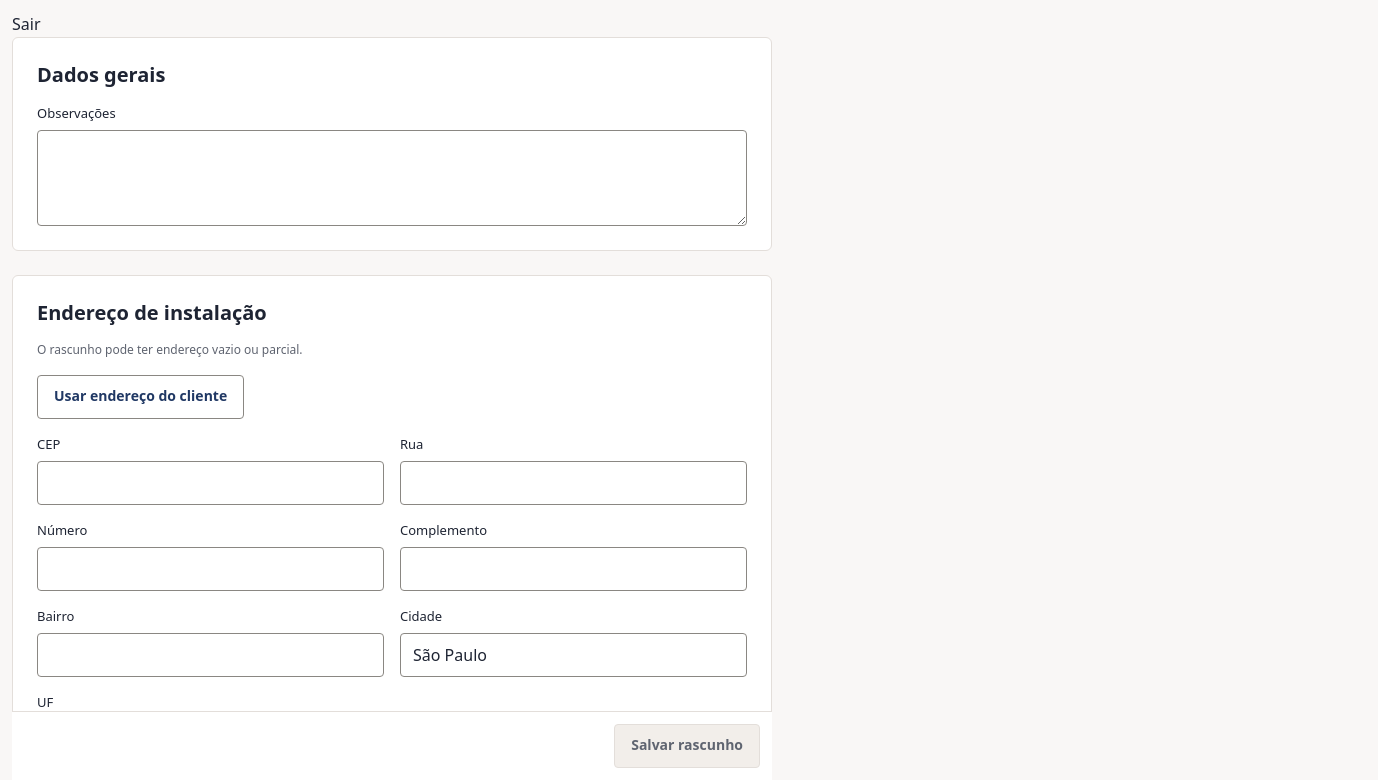
does not save on mount, accepts partial address and resets to server values after saving
Expected: the button "Salvar rascunho" is disabled, left=614, top=724, right=760, bottom=768
In the text box labelled "Observações": {"x": 392, "y": 178} left=37, top=130, right=747, bottom=226, type "Draft"
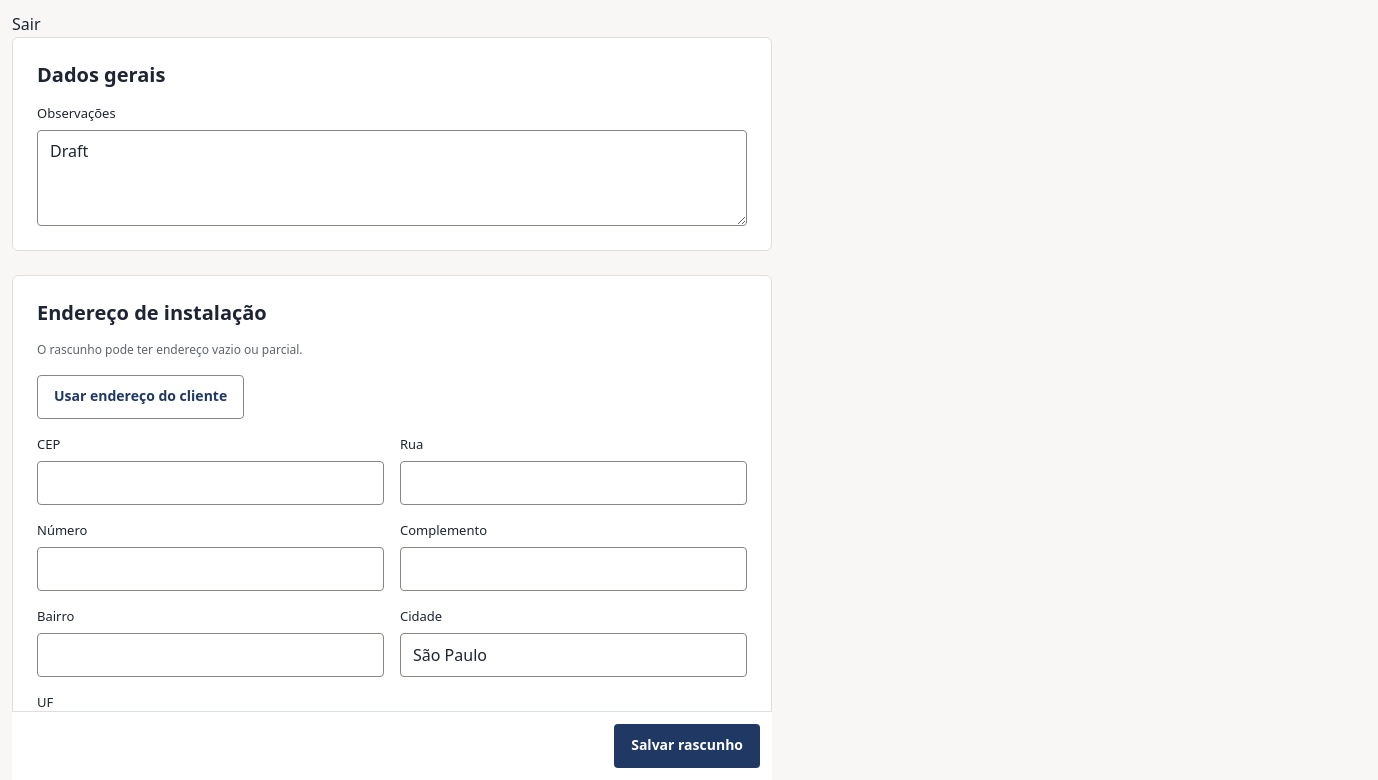
Clear the field labelled "Cidade": {"x": 574, "y": 655} left=400, top=633, right=747, bottom=677
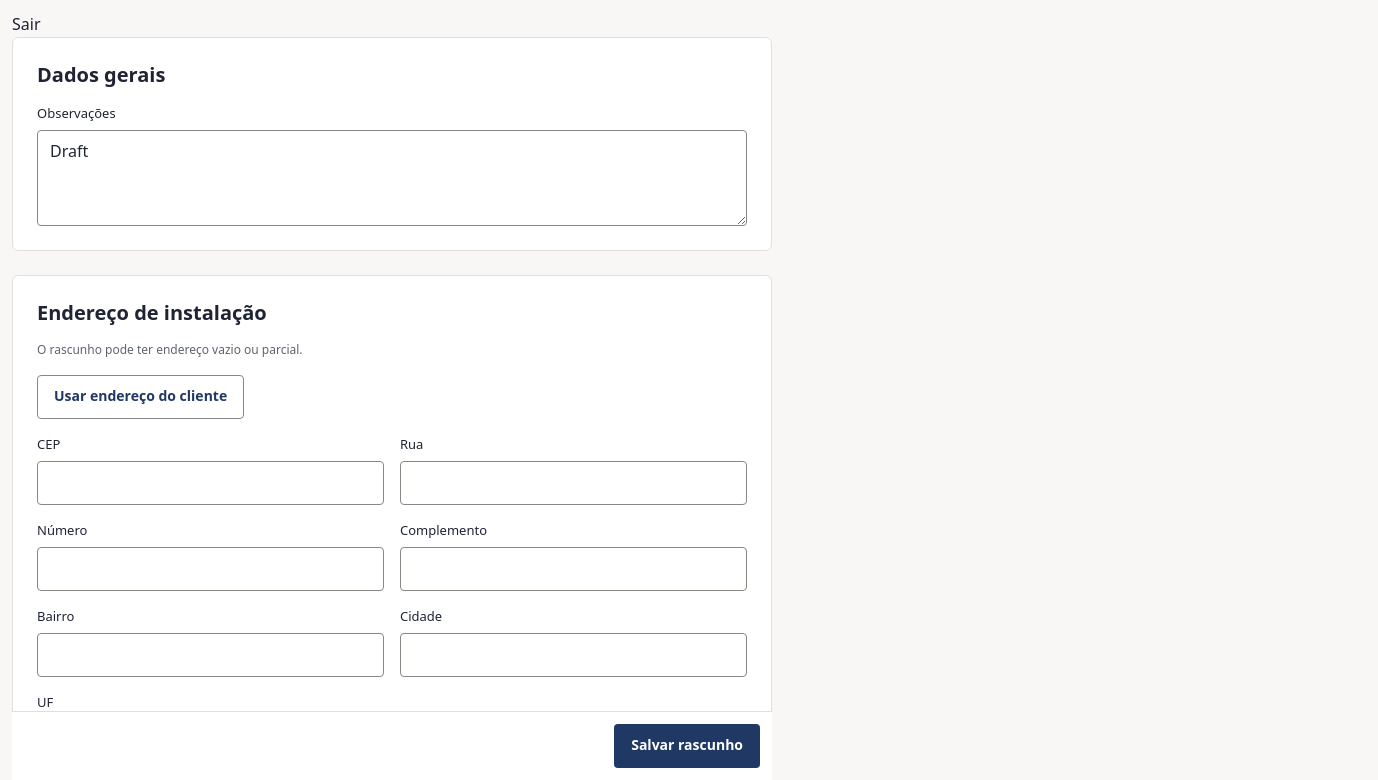
In the field labelled "Rua": {"x": 574, "y": 483} left=400, top=461, right=747, bottom=505, type "Rua A"
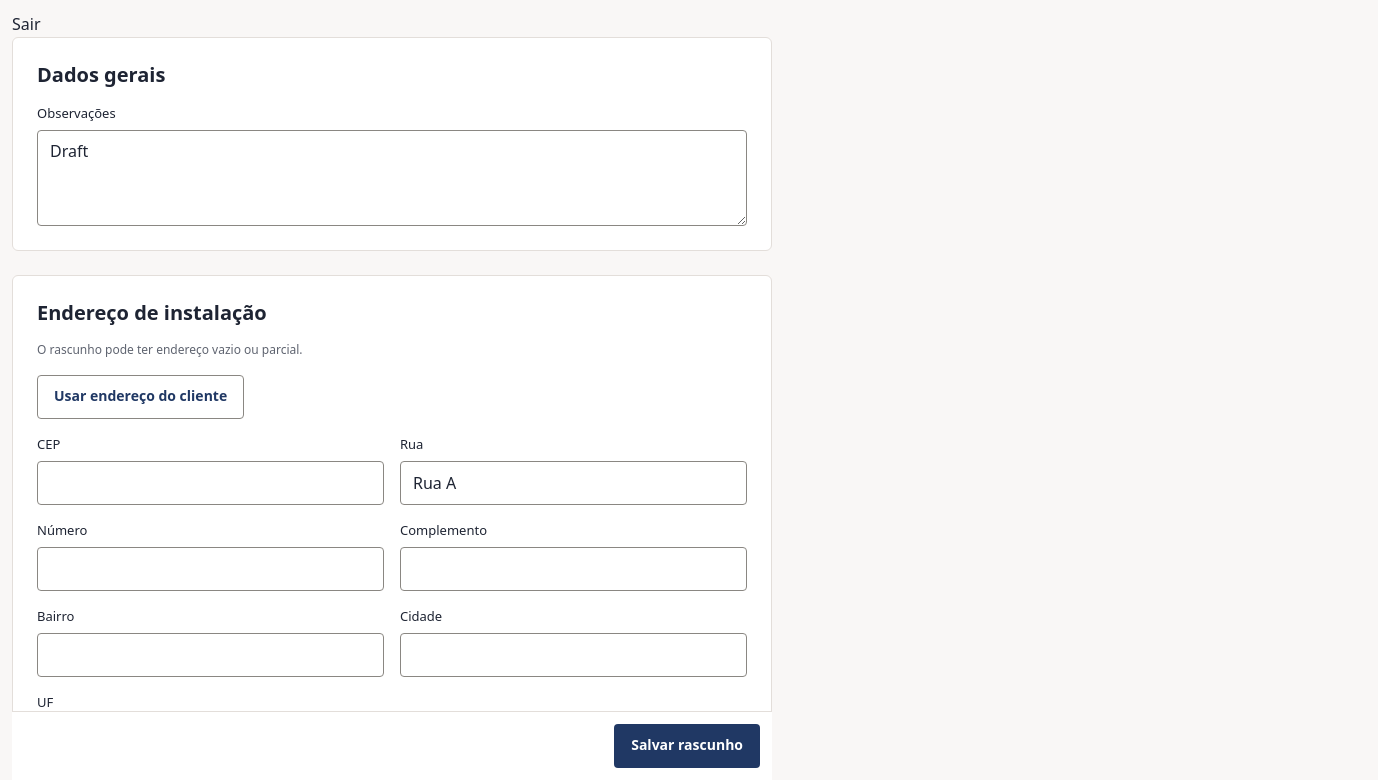
Click the button "Salvar rascunho": {"x": 687, "y": 746} left=614, top=724, right=760, bottom=768
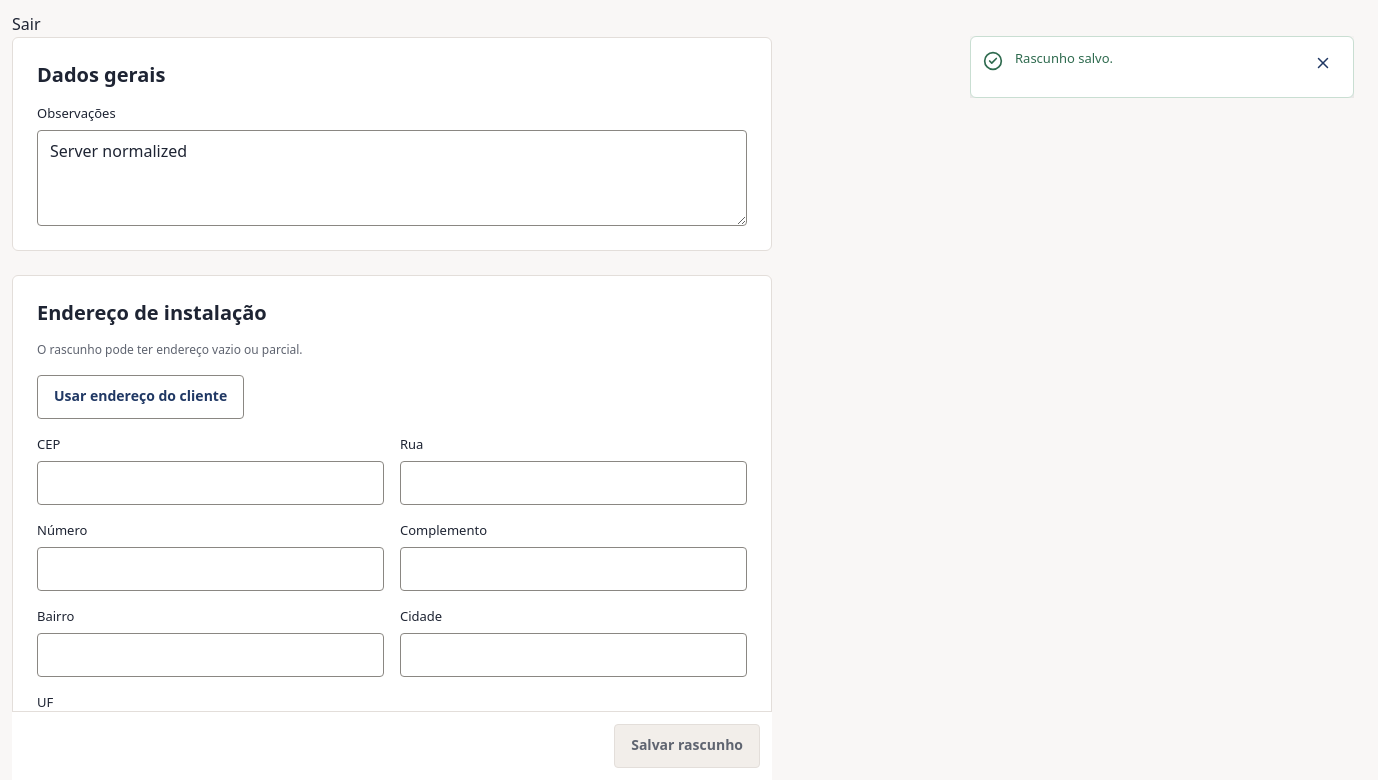
Now the text "Rascunho salvo." is shown, box left=1015, top=49, right=1113, bottom=67
Now the text box labelled "Observações" holds "Server normalized", box left=37, top=130, right=747, bottom=226
Now the field labelled "Rua" is empty, box left=400, top=461, right=747, bottom=505
Click the link "Sair": {"x": 26, "y": 24} left=12, top=13, right=40, bottom=35
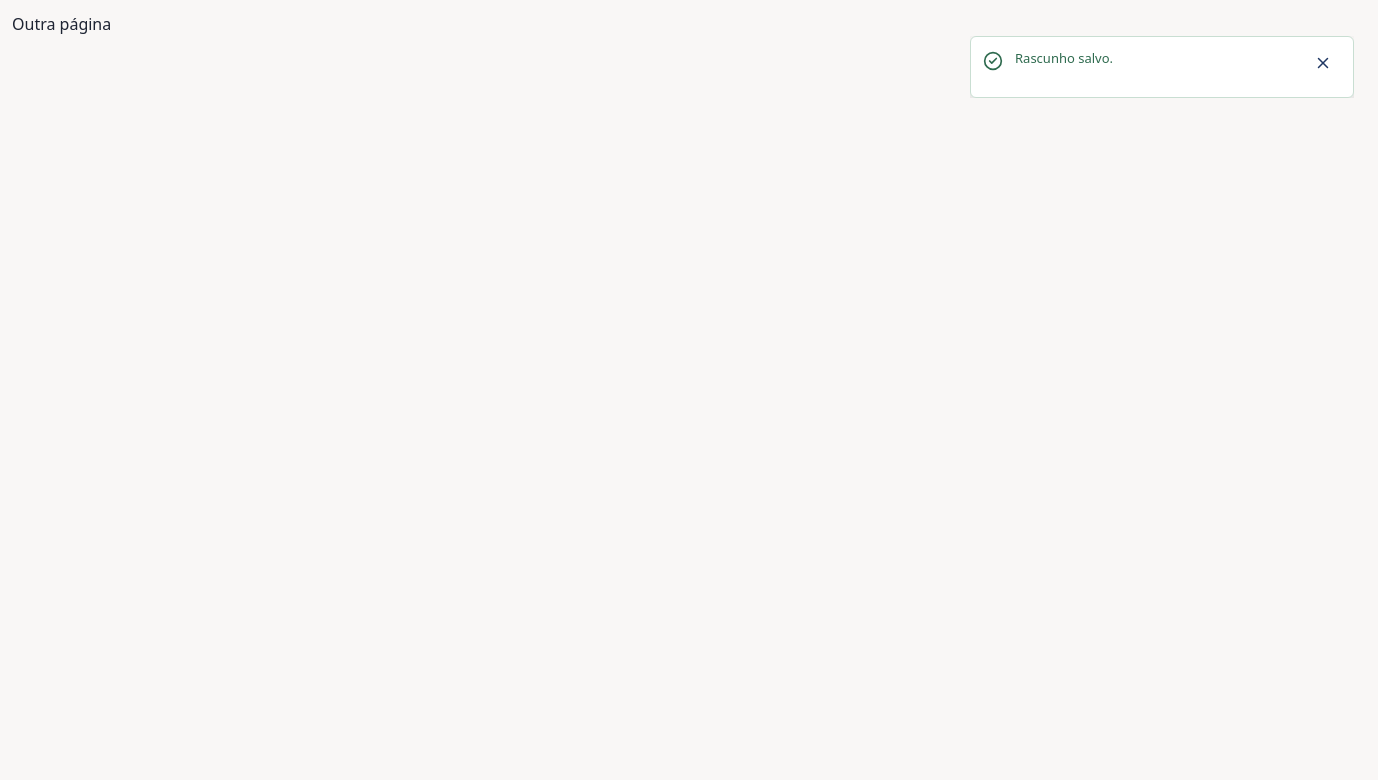
Now the text "Outra página" is shown, box left=12, top=13, right=111, bottom=35
